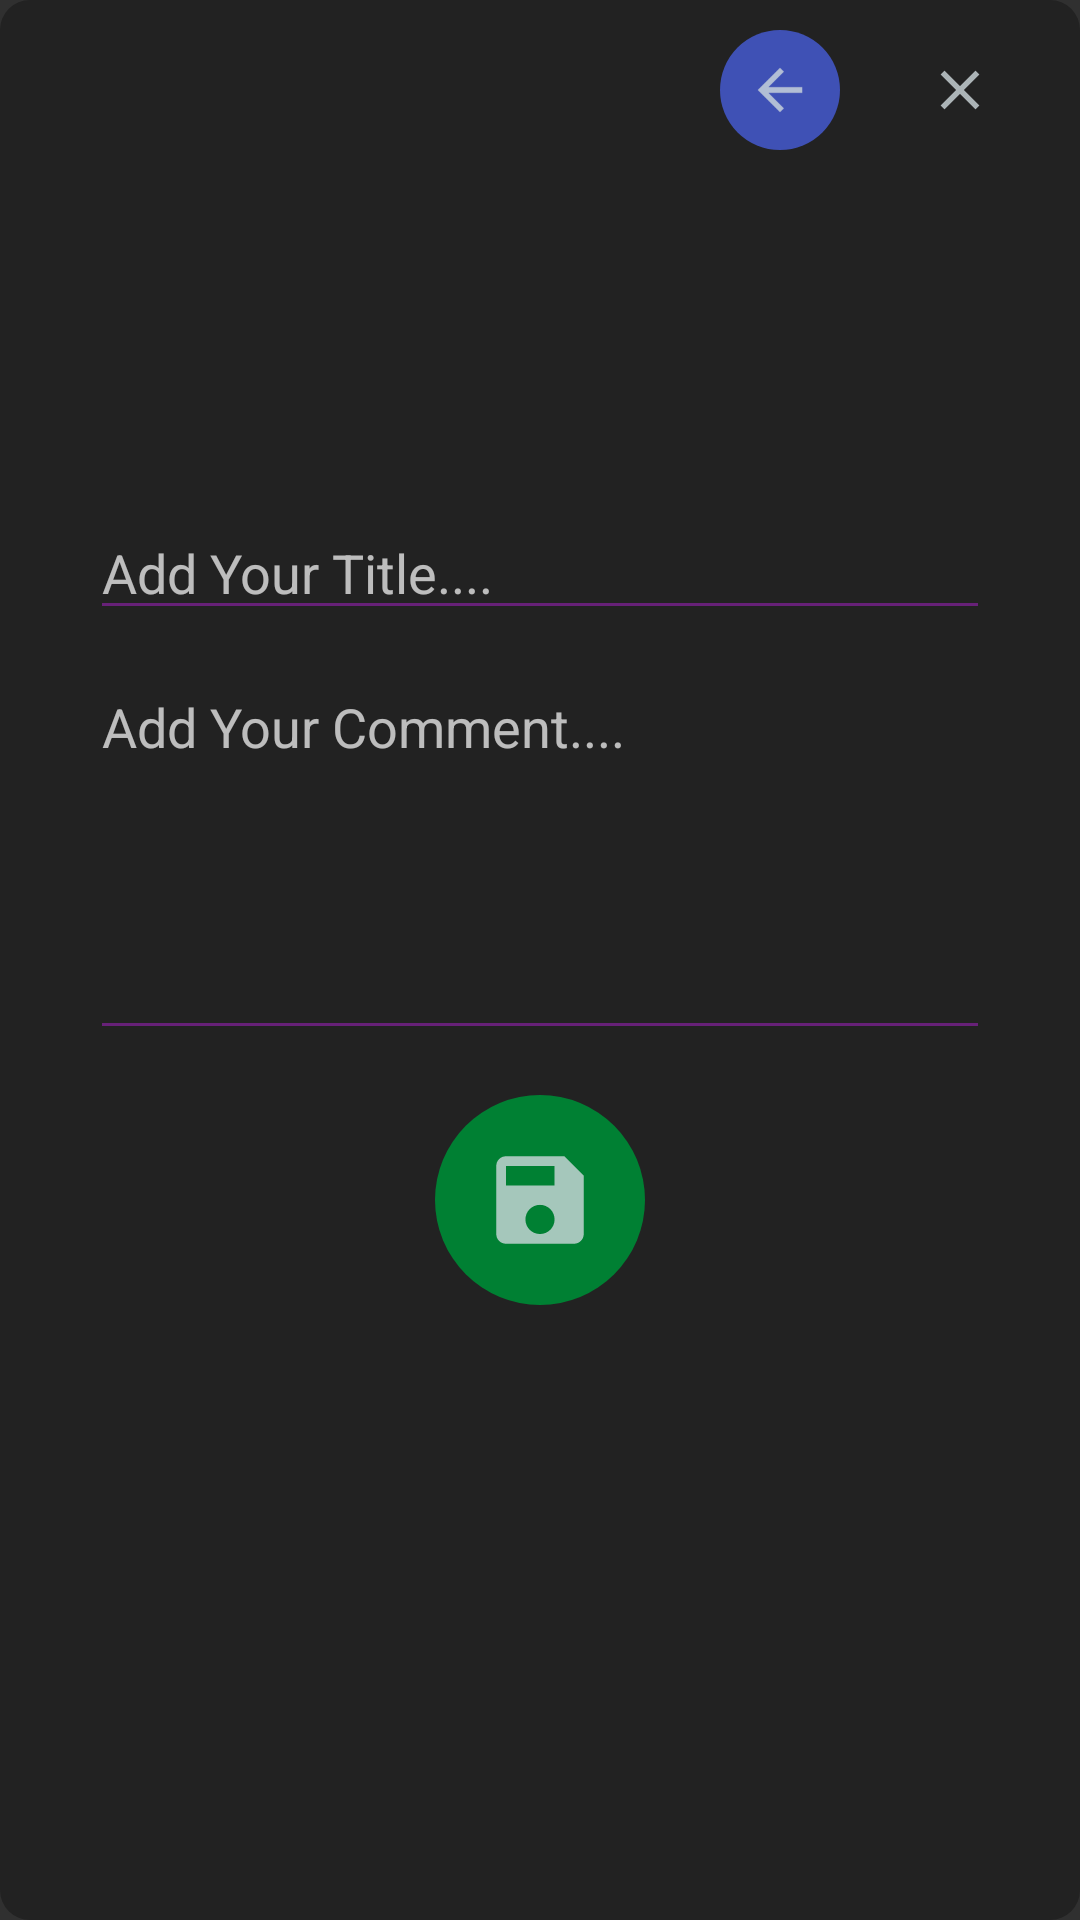

Icons on this 1080w x 1920h Android screen, each with its box as (x1, y1, x2, y2):
Back: (720, 30, 840, 150)
close: (941, 71, 979, 109)
save: (435, 1095, 645, 1305)
